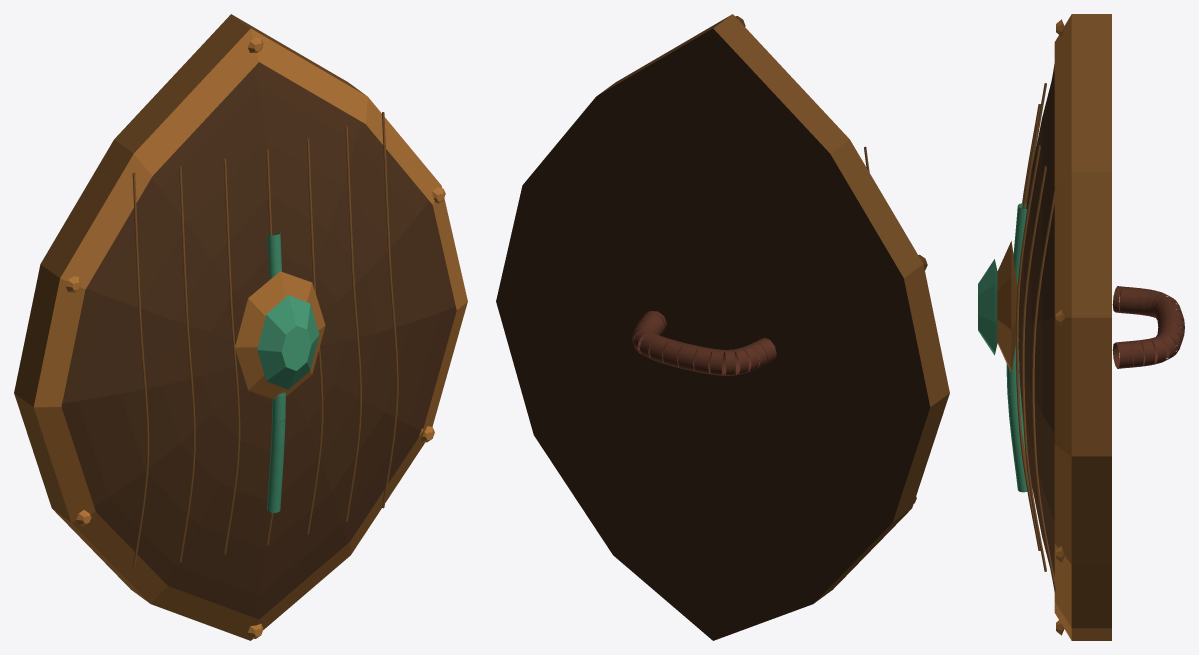
File: Wood.obj
The picture shows the model from 3 angles, left to right: view 1: azimuth 30°, elevation 25°; view 2: azimuth 150°, elevation 25°; view 3: azimuth 270°, elevation 25°; orthographic projection. The views are drawn at different scales.
Visible parts, largest first — view 1: Wood; view 2: Wood; view 3: Wood.
Part boxes in pixels (<box>): Wood: <box>14,14,467,640</box>; Wood: <box>496,14,949,640</box>; Wood: <box>978,14,1184,640</box>.
Bounding box in the file's own units: 23 × 31 × 9.27.
